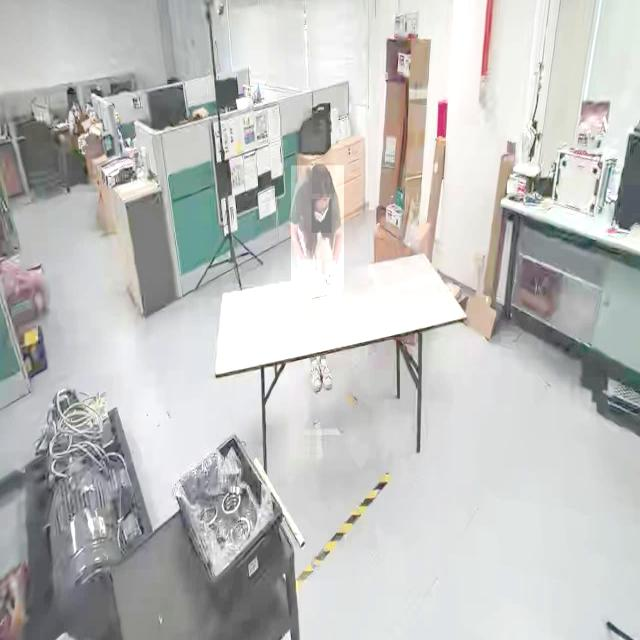face_mask: (312, 199, 332, 233)
hand_glove: (300, 260, 322, 292), (322, 258, 336, 290)
head_nohelmet: (311, 162, 335, 195), (67, 86, 77, 95)
person: (290, 165, 344, 290)
shoes: (308, 353, 323, 396), (320, 355, 334, 390)
